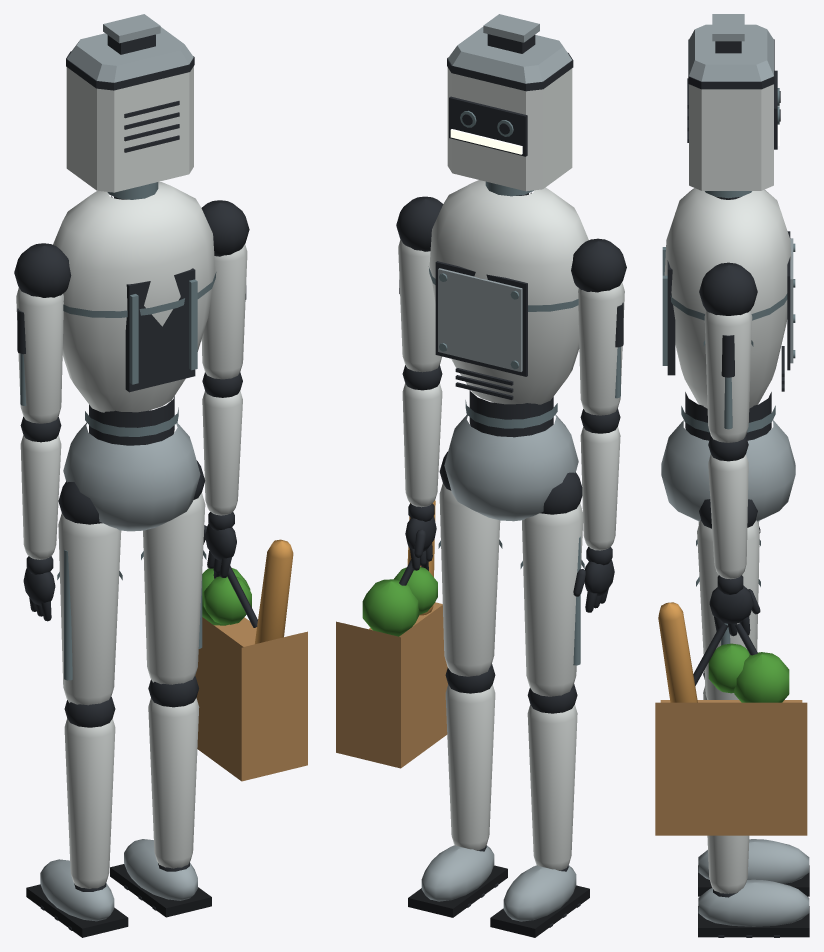
Rendered from errand-robot.glb.
The picture shows the model from 3 angles, left to right: view 1: azimuth 30°, elevation 25°; view 2: azimuth 150°, elevation 25°; view 3: azimuth 270°, elevation 25°; orthographic projection. The views are drawn at different scales.
Parts seen in each view (by area): view 1: torso, head, bag, leg_lower_L, leg_lower_R, leg_upper_L, leg_upper_R, arm_lower_R, arm_lower_L, arm_upper_L, bag_contents, arm_upper_R; view 2: torso, head, bag, leg_lower_R, leg_lower_L, leg_upper_L, leg_upper_R, arm_lower_L, arm_lower_R, arm_upper_L, arm_upper_R, bag_contents; view 3: torso, bag, head, leg_lower_R, arm_lower_R, bag_contents, arm_upper_R, leg_upper_R, leg_lower_L.
Boxes of the visible parts, box(x1,y1,x2,y2) form: torso: box(14, 182, 249, 531); head: box(66, 14, 194, 199); bag: box(195, 558, 307, 781); leg_lower_L: box(26, 696, 128, 937); leg_lower_R: box(110, 676, 211, 917); leg_upper_L: box(57, 513, 122, 705); leg_upper_R: box(141, 492, 206, 684); arm_lower_R: box(202, 372, 242, 577); arm_lower_L: box(20, 416, 61, 621); arm_upper_L: box(16, 288, 63, 423); bag_contents: box(202, 539, 293, 644); arm_upper_R: box(201, 244, 247, 379); torso: box(396, 180, 626, 521); head: box(447, 14, 573, 196); bag: box(336, 551, 447, 768); leg_lower_R: box(408, 664, 507, 917); leg_lower_L: box(490, 684, 589, 937); leg_upper_L: box(520, 503, 584, 696); leg_upper_R: box(438, 483, 502, 676); arm_lower_L: box(573, 408, 620, 612); arm_lower_R: box(402, 365, 442, 570); arm_upper_L: box(578, 282, 624, 415); arm_upper_R: box(398, 239, 442, 372); bag_contents: box(362, 500, 437, 636); torso: box(661, 188, 795, 528); bag: box(655, 623, 807, 835); head: box(687, 14, 780, 199); leg_lower_R: box(698, 835, 809, 937); arm_lower_R: box(708, 436, 760, 636); bag_contents: box(658, 602, 789, 702); arm_upper_R: box(703, 311, 753, 442); leg_upper_R: box(696, 520, 760, 699); leg_lower_L: box(698, 671, 809, 896).
Size of the model in its own units: 0.574 by 1.92 by 0.304.
